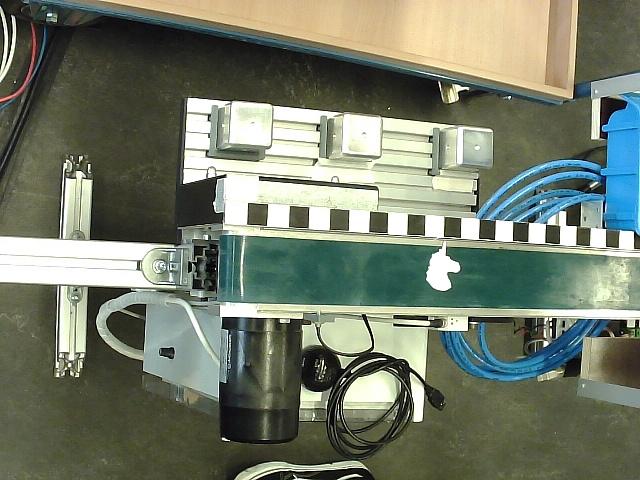unicorn: (425, 241, 461, 292)
